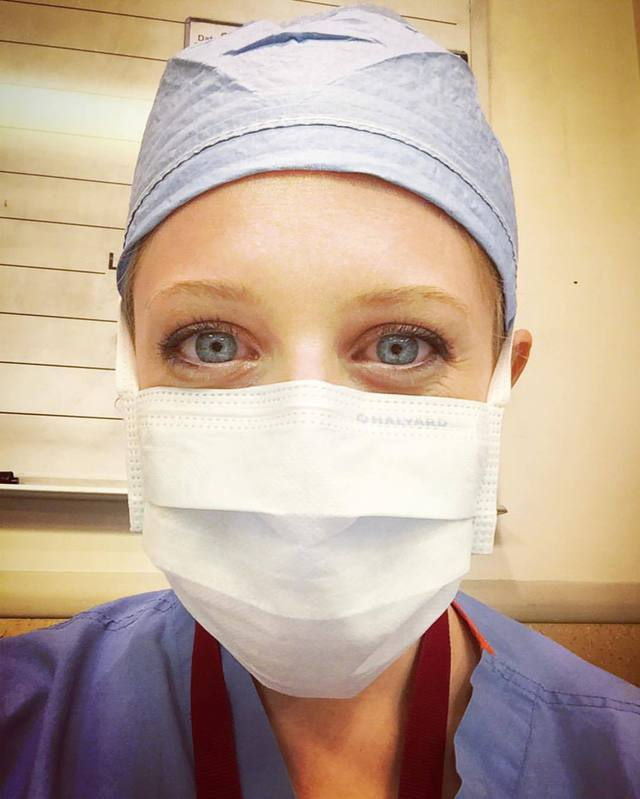mask: (129, 392, 506, 652)
